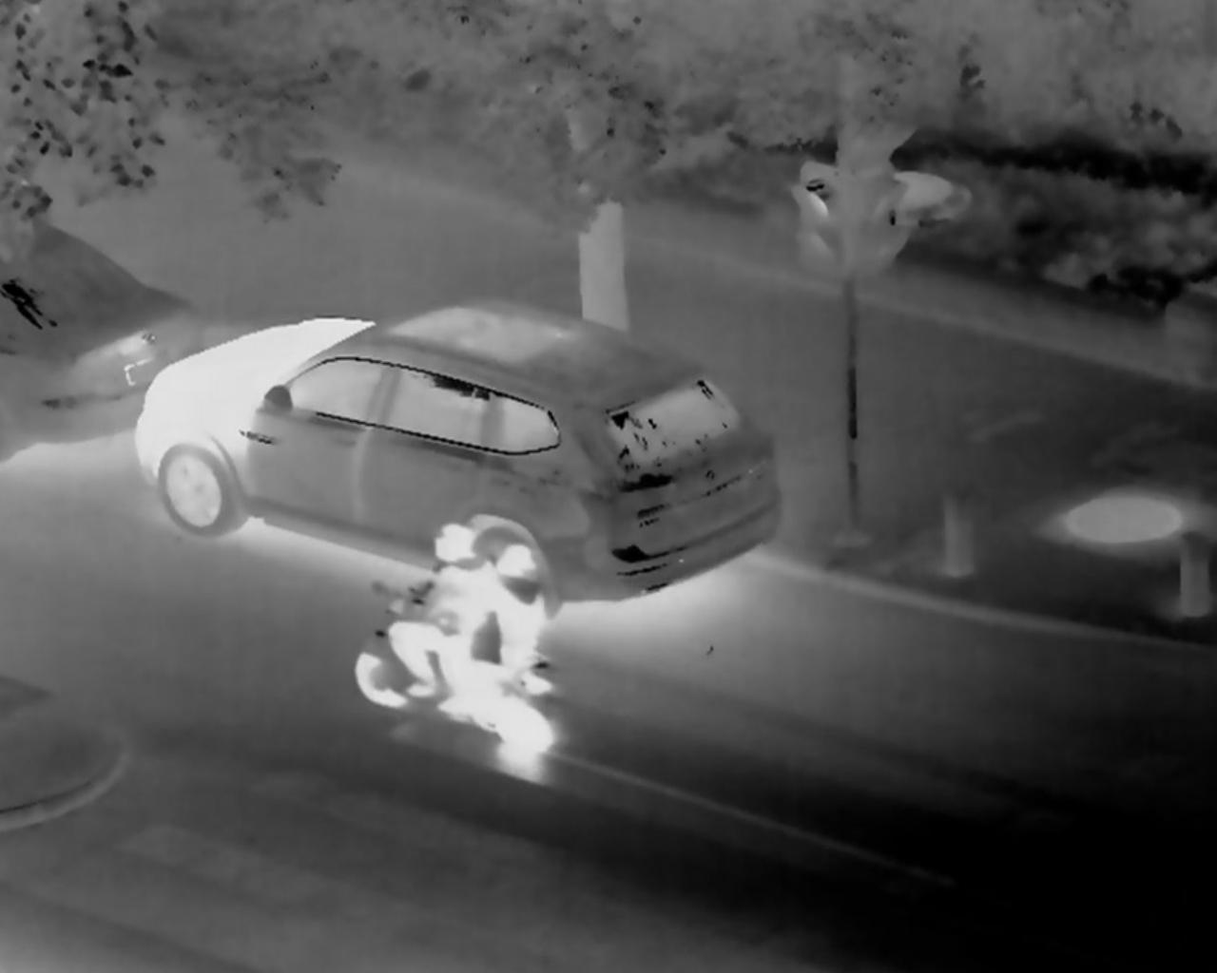person: (386, 516, 495, 702), (452, 546, 539, 715)
